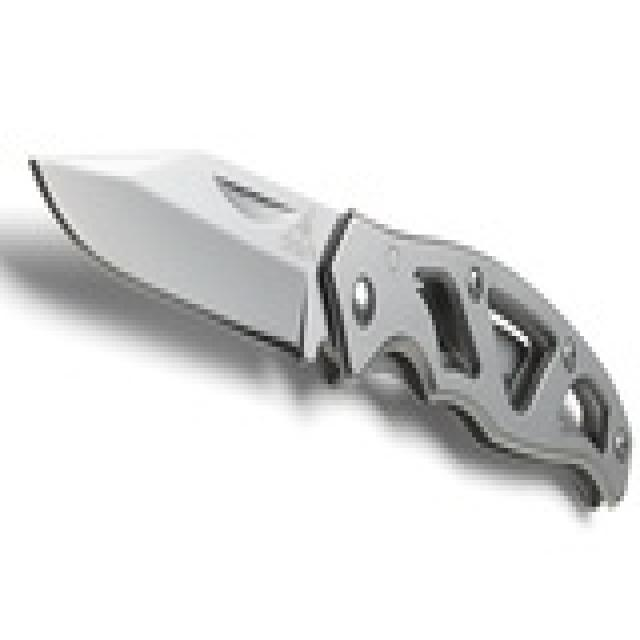Knife: (26, 106, 626, 553)
